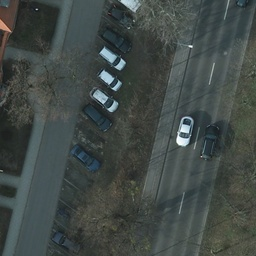car: (99, 23, 131, 54), (84, 104, 113, 131), (90, 85, 119, 112), (71, 145, 100, 170), (174, 112, 194, 147), (98, 46, 127, 70), (199, 126, 219, 160), (103, 7, 134, 28), (97, 69, 121, 91)
